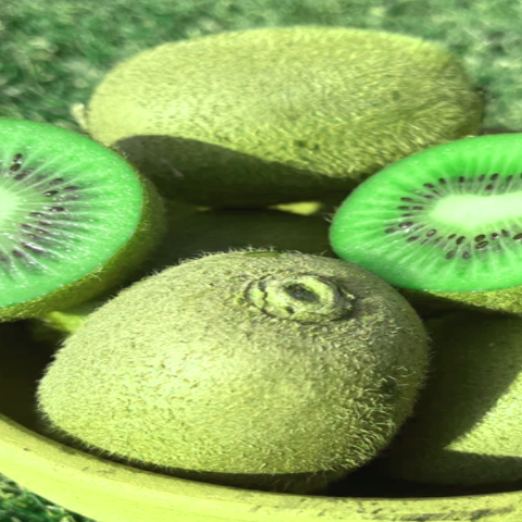kiwi: (20, 210, 454, 500), (44, 22, 495, 214)
